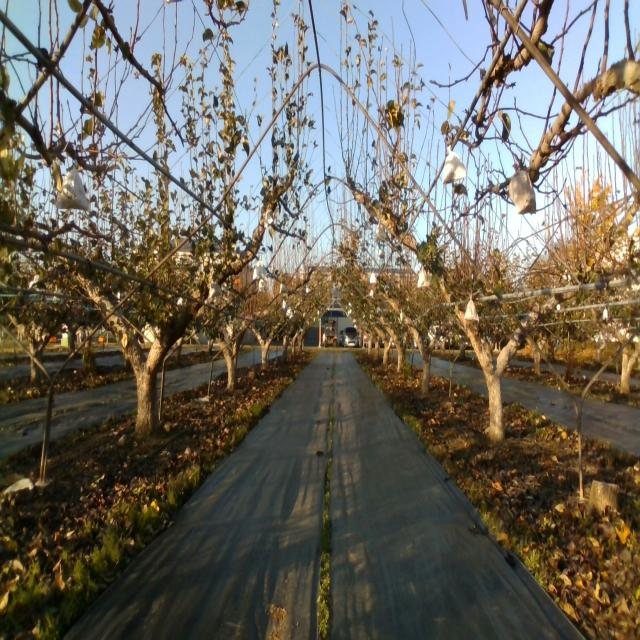pearbags: (54, 157, 90, 211), (508, 166, 536, 215), (443, 146, 467, 184), (464, 293, 480, 321), (253, 254, 267, 280), (207, 278, 221, 300), (418, 266, 431, 288), (374, 219, 388, 239), (263, 208, 274, 228)
